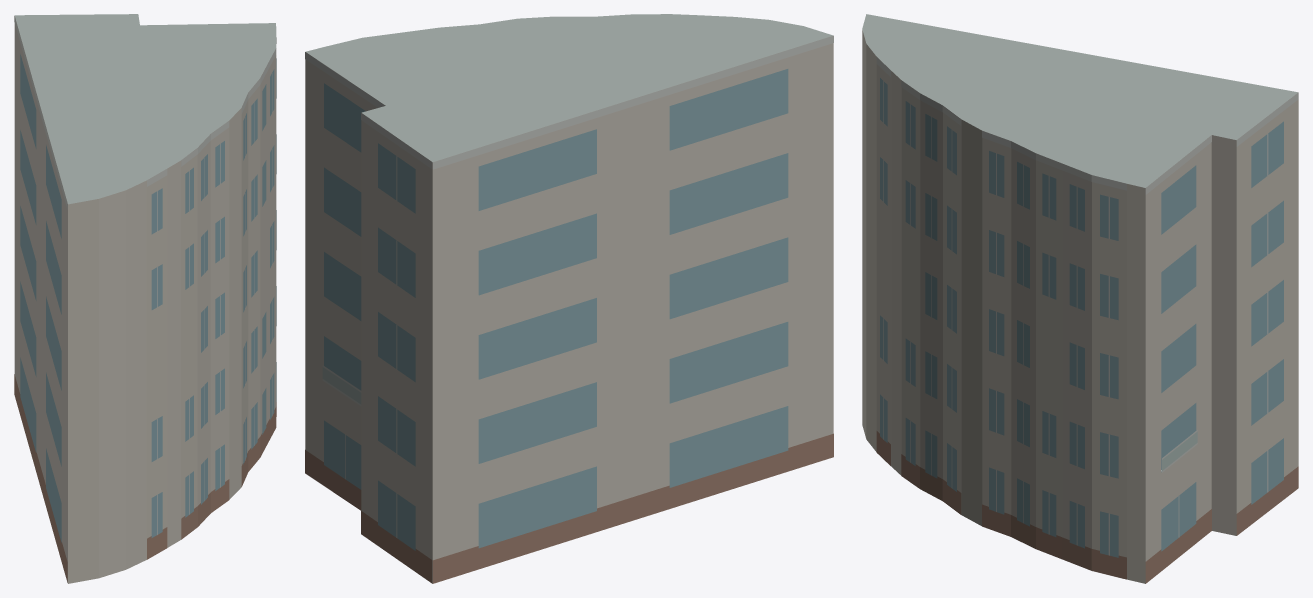
Rendered from survey-upis-32496768.glb.
The picture shows the model from 3 angles, left to right: view 1: azimuth 30°, elevation 25°; view 2: azimuth 150°, elevation 25°; view 3: azimuth 270°, elevation 25°; orthographic projection. The views are drawn at different scales.
Visible parts, largest first — view 1: survey-upis-32496768.tmp; view 2: survey-upis-32496768.tmp; view 3: survey-upis-32496768.tmp.
Part boxes in pixels (x1,y1,x2,y2): survey-upis-32496768.tmp: [14, 14, 276, 583]; survey-upis-32496768.tmp: [305, 14, 833, 583]; survey-upis-32496768.tmp: [862, 14, 1298, 583].
Bounding box in the file's own units: 13.02 × 13.8 × 13.79.
